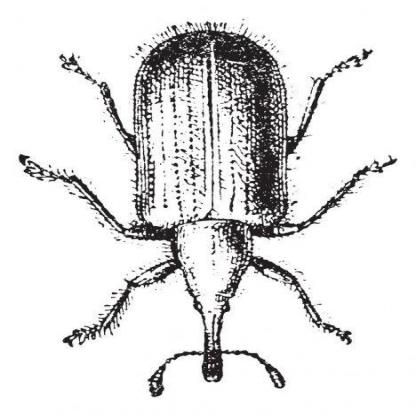ash weevil: (26, 26, 376, 394)
